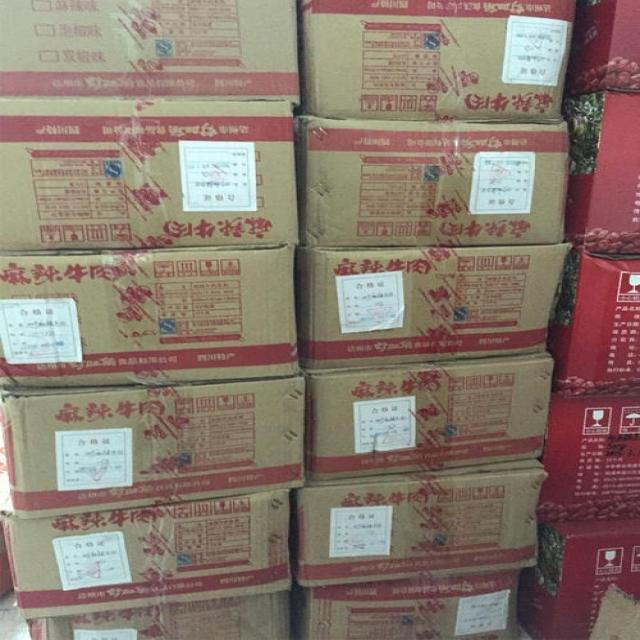box: (1, 96, 300, 255), (1, 246, 302, 390), (4, 377, 305, 519), (1, 488, 292, 618), (300, 114, 567, 245), (302, 241, 568, 367), (300, 1, 572, 124), (300, 457, 544, 587), (302, 352, 553, 478), (1, 1, 302, 103), (518, 518, 640, 639), (296, 572, 508, 639), (26, 588, 292, 638), (540, 391, 640, 523), (564, 87, 640, 256), (558, 249, 639, 399), (570, 0, 640, 98)
